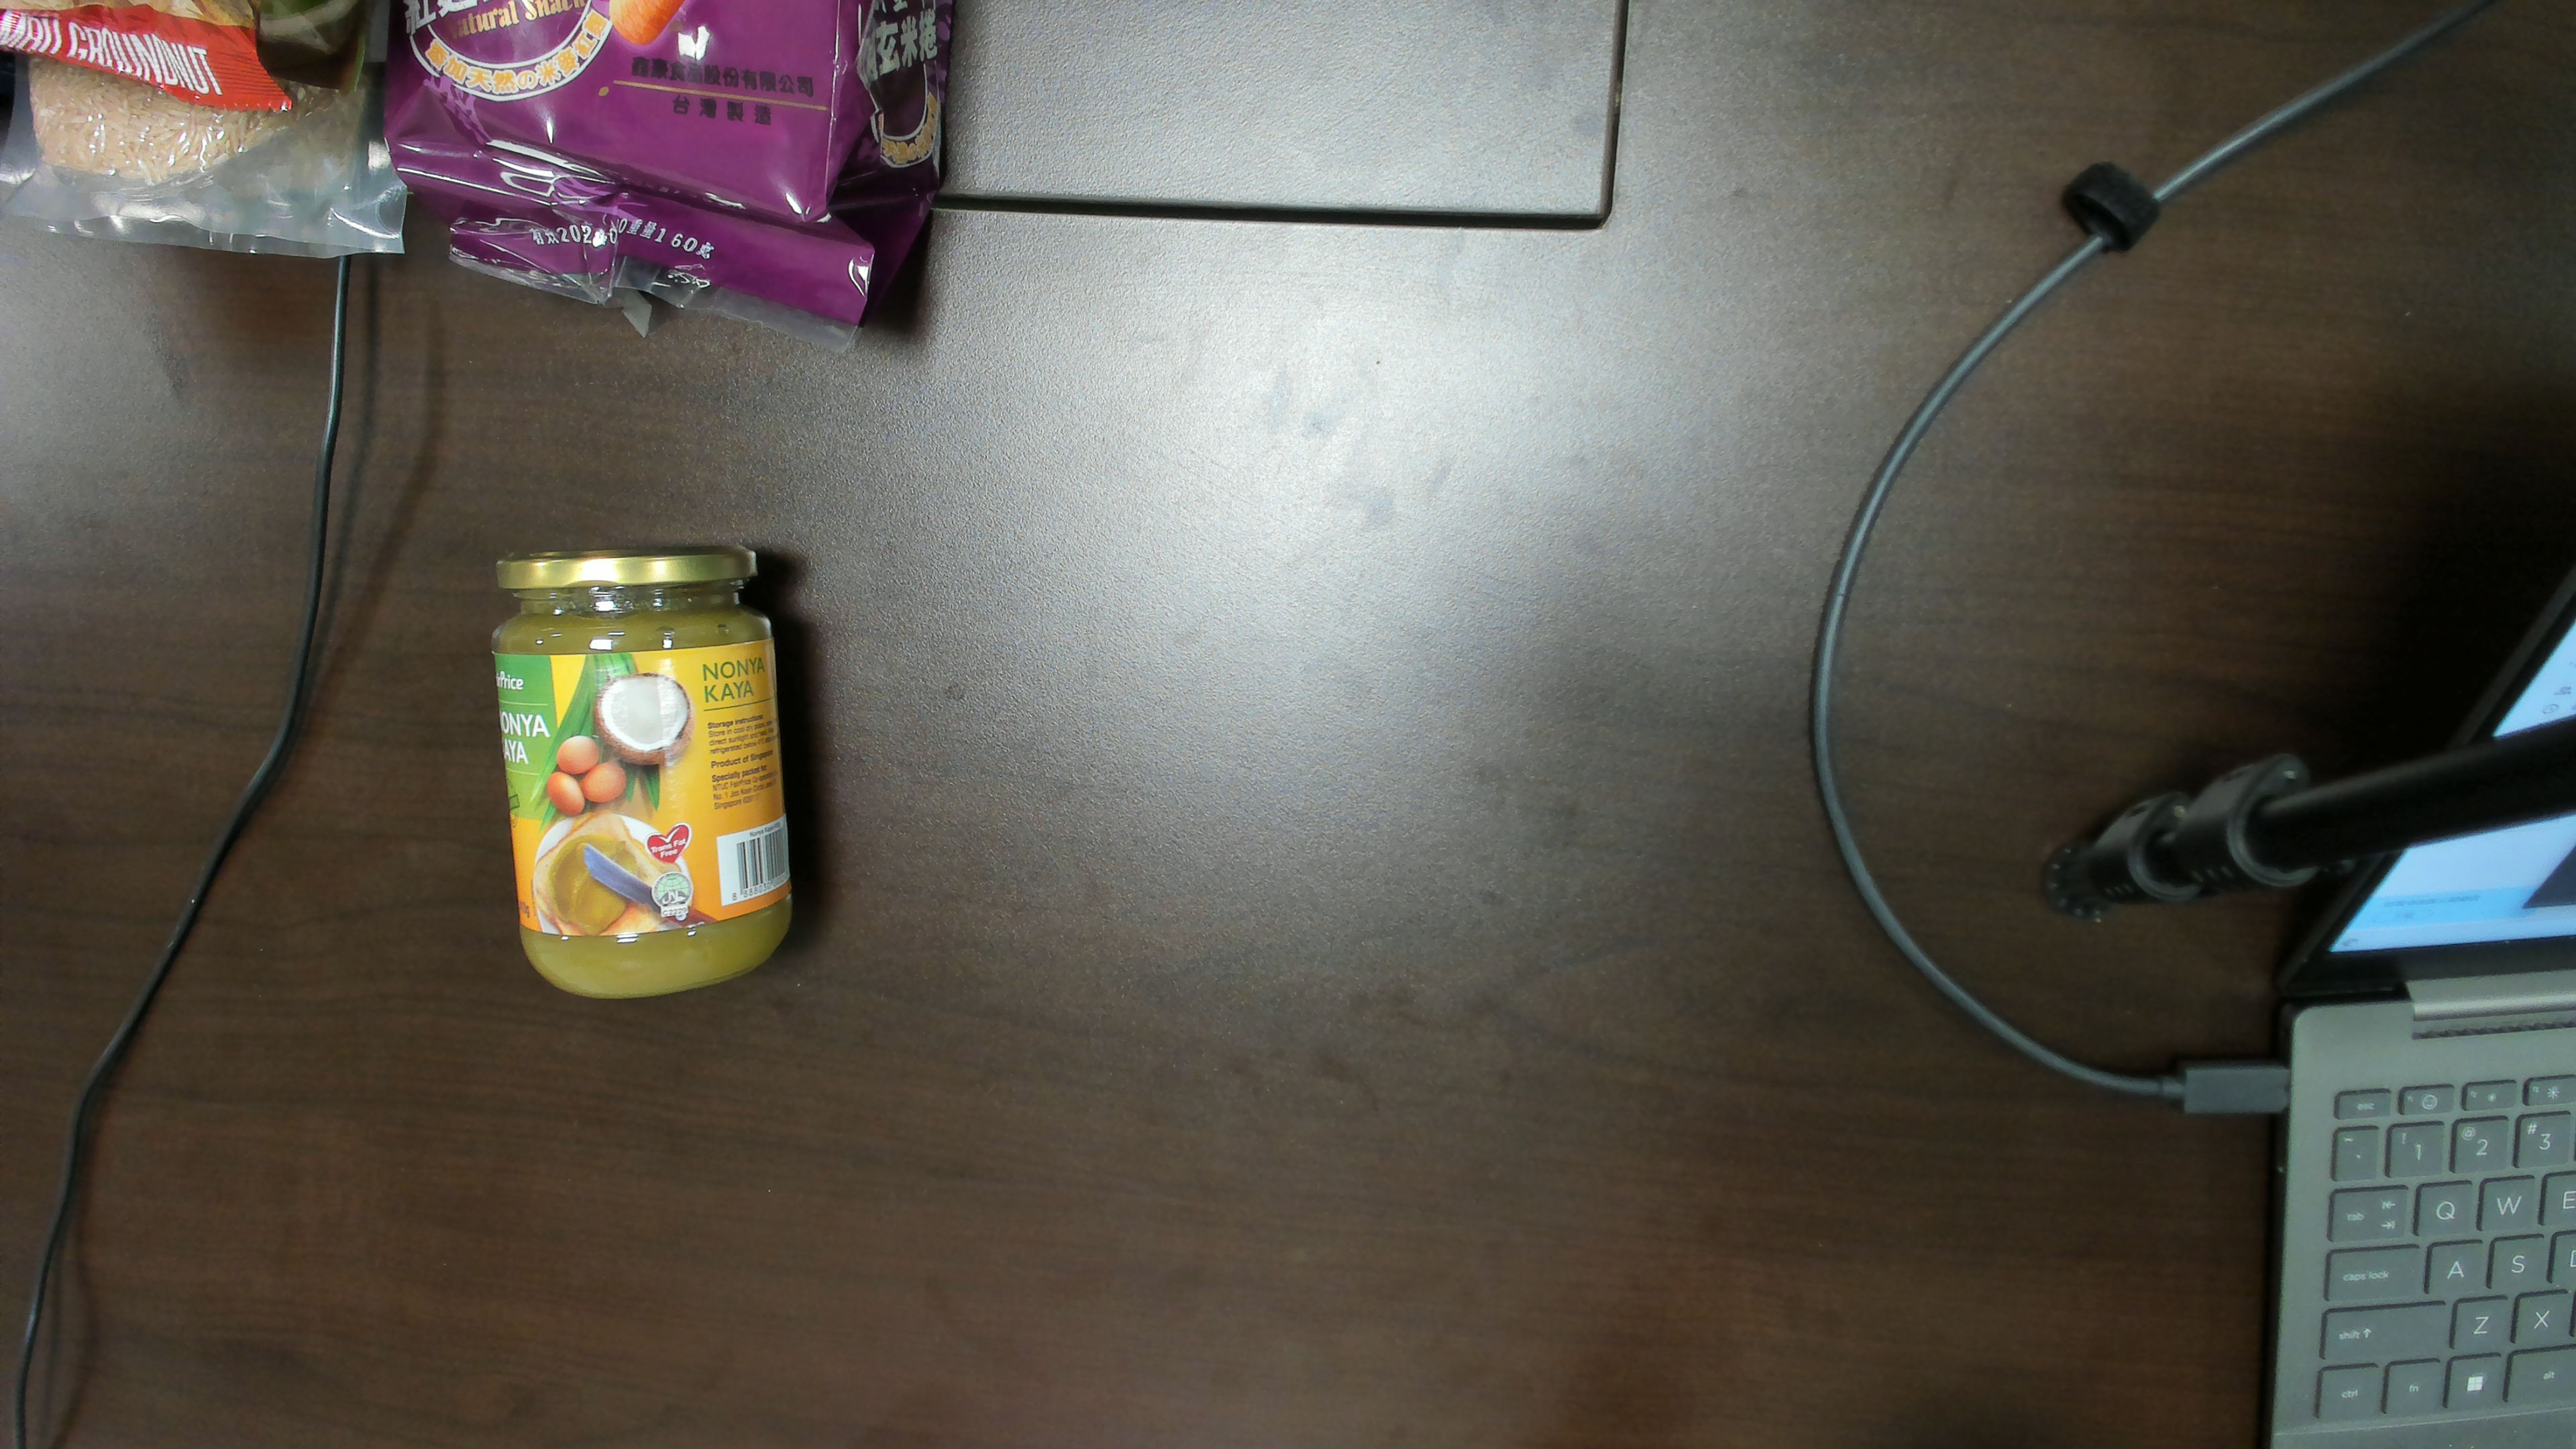Kaya_400-499g_Halal_NonHealthy: (511, 665, 771, 913)
